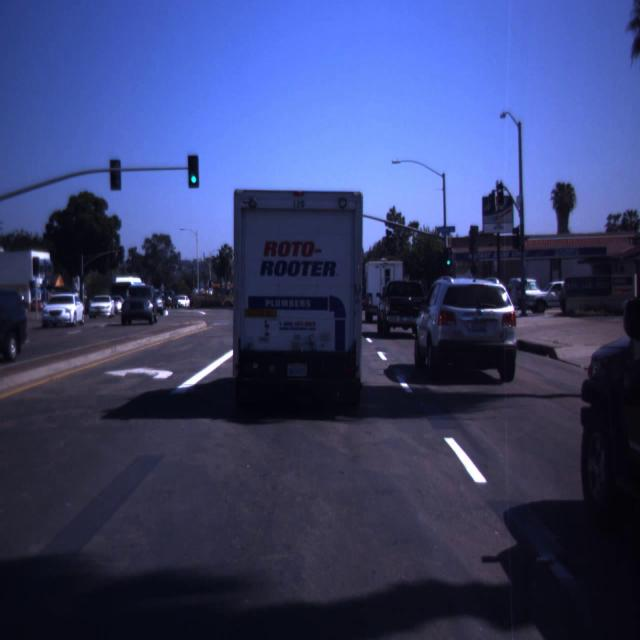arka_lamba: (110, 159, 121, 191)
yesil: (188, 155, 200, 188), (445, 248, 452, 267)
